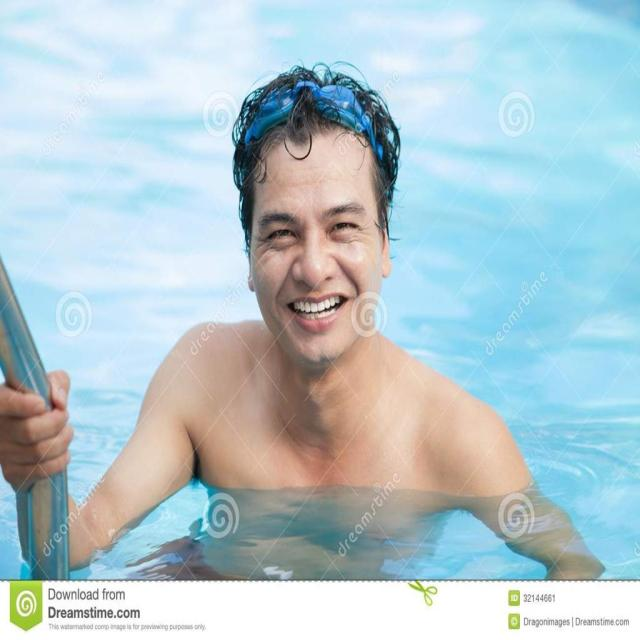Face: (252, 110, 395, 384)
